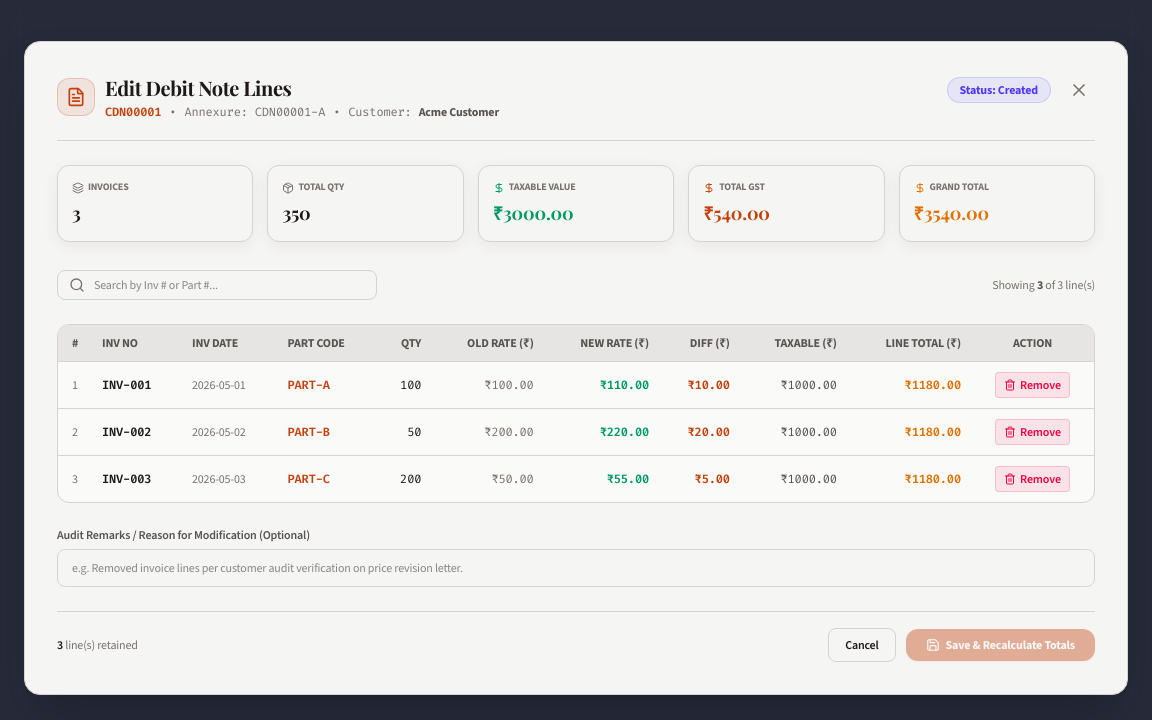
Scenario: EditDebitNoteModal Component › 3. Original vs revised totals recalculate correctly upon line exclusion
The image size is (1152, 720).
Expected: the text "₹3540.00" is shown, [914, 201, 989, 225]
Exclude INV-002 (amount: ₹1180.00, taxable: ₹1000.00)
Click the button "Remove" in the row of "INV-002".
click(1032, 432)  # box [995, 419, 1070, 445]
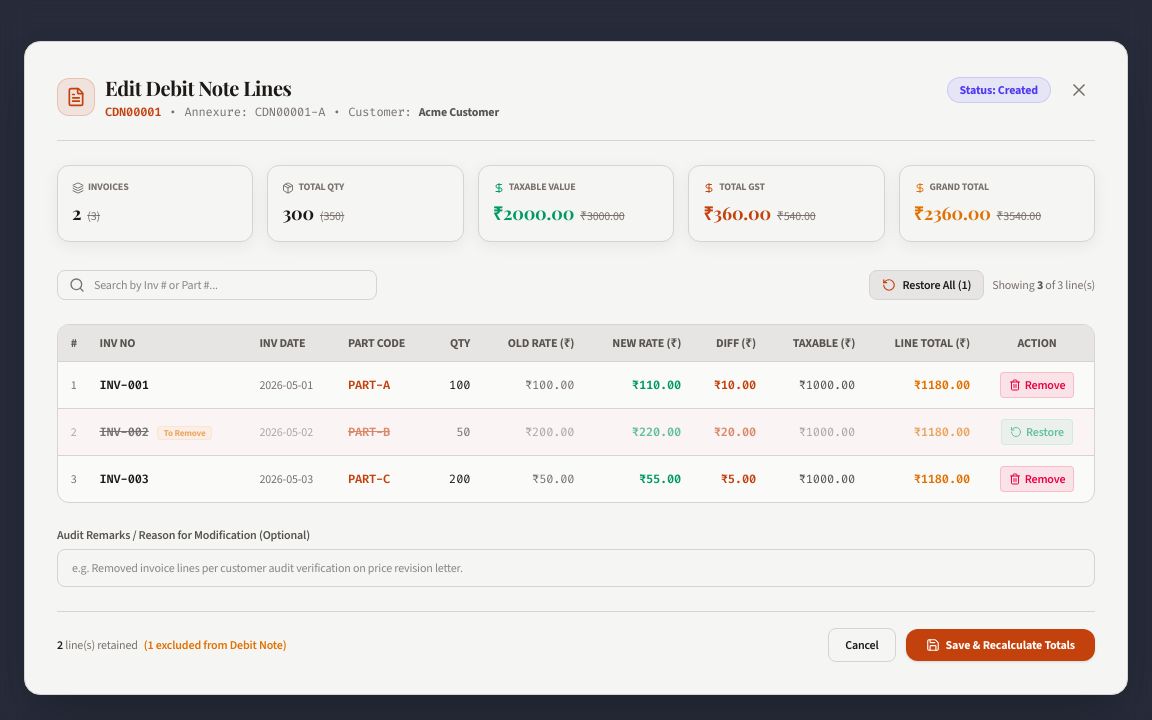
Expected: the text "₹3540.00" is shown, [997, 208, 1041, 224]
Expected: the text "₹2360.00" is shown, [914, 201, 1041, 225]
Expected: the text "₹2000.00" is shown, [493, 201, 624, 225]
